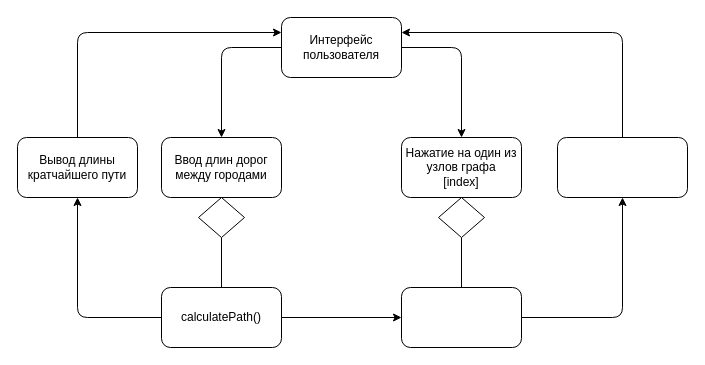
Some shapes in this 705 by 365 pixel diagram are drawn without their labels. Each missing label, with the centre of its shape:
resultText(): the point at 461,317
Вывод траектории пути: the point at 622,167
